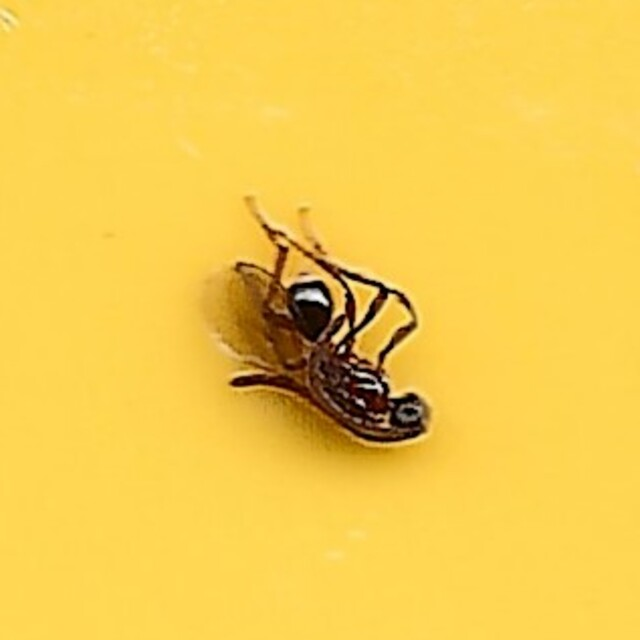Hymenoptera: (202, 187, 438, 453)
